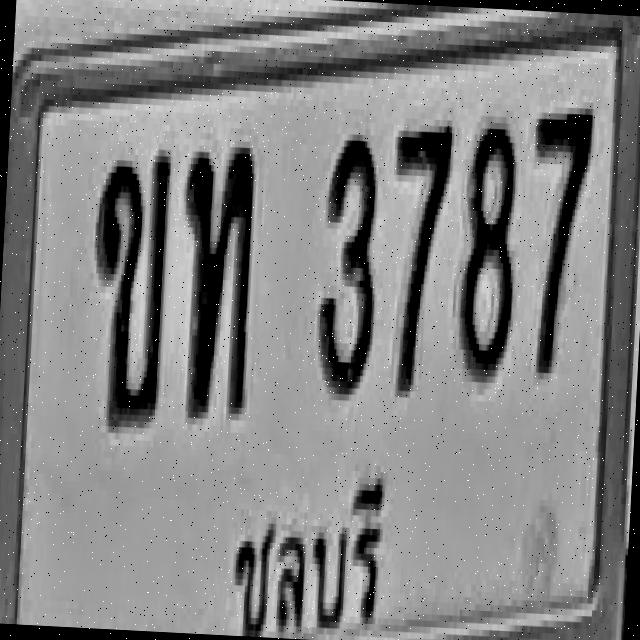11KhorKhai: (87, 144, 173, 426)
3: (314, 127, 384, 396)
32ThorThaHan: (173, 136, 260, 418)
7: (383, 115, 454, 396), (523, 100, 593, 375)
8: (454, 112, 522, 380)
Chonburi: (223, 453, 392, 640)
